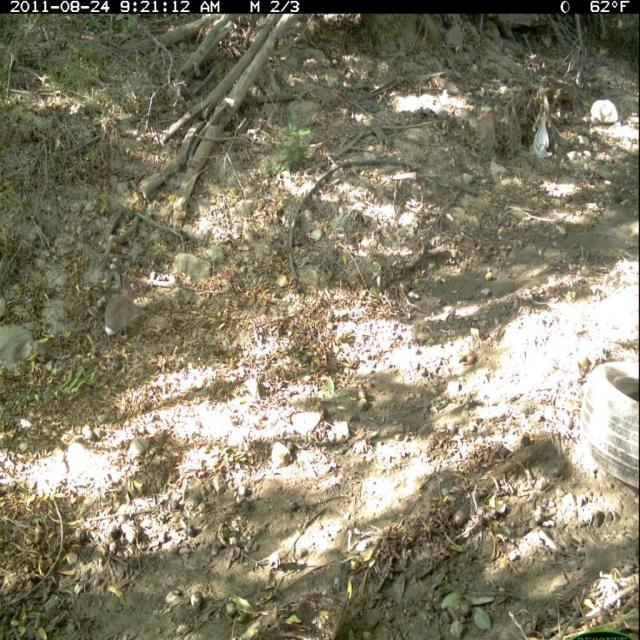rabbit: (103, 271, 139, 344)
